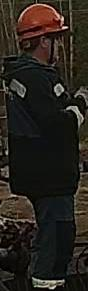gloves: (74, 83, 88, 109)
helmet: (15, 2, 69, 40)
vest: (1, 59, 80, 198)
